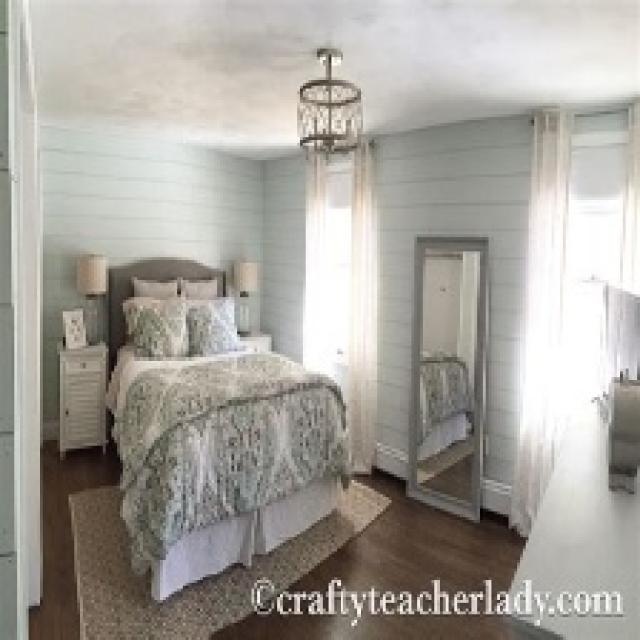Bed: (103, 254, 351, 603)
